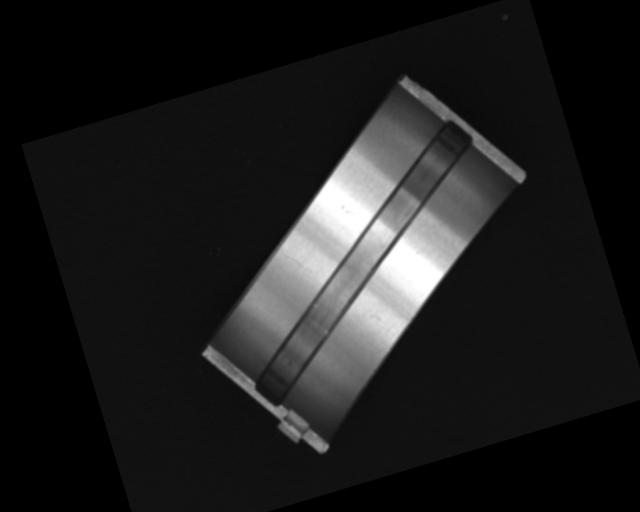gap: (198, 114, 529, 409)
nick: (284, 247, 313, 280)
